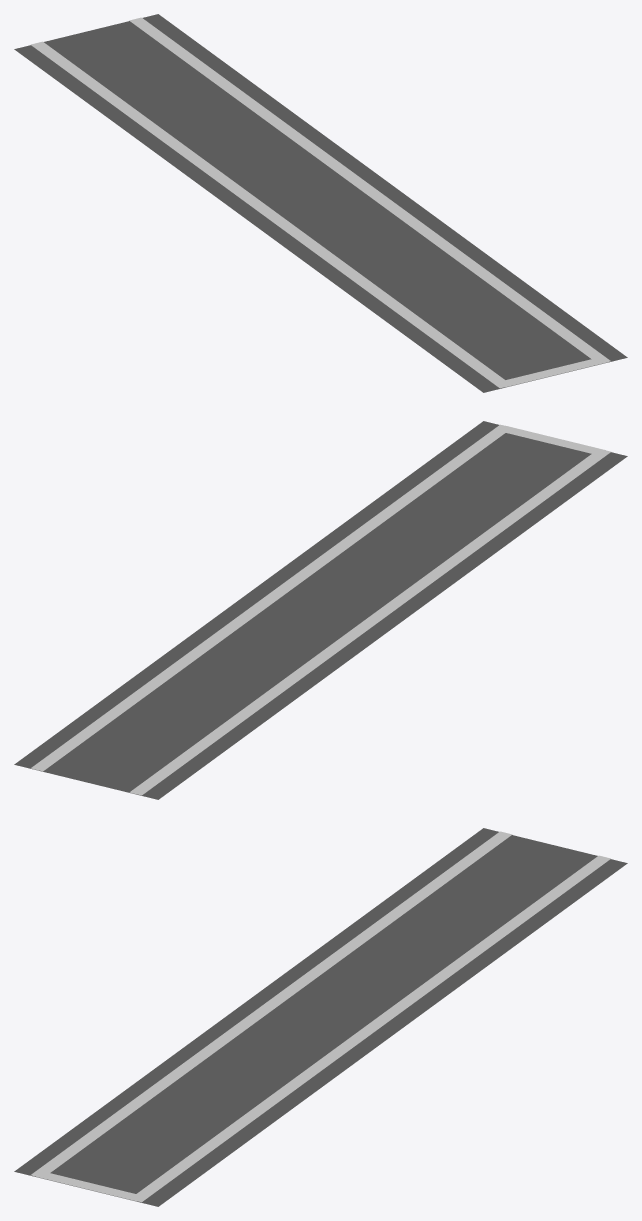
File: Road.FBX
The picture shows the model from 3 angles, top to bottom: view 1: azimuth 30°, elevation 25°; view 2: azimuth 150°, elevation 25°; view 3: azimuth 330°, elevation 25°; orthographic projection.
Visible parts, largest first — view 1: Road; view 2: Road; view 3: Road.
Part boxes in pixels (bbox=[...]): Road: bbox=[14, 14, 627, 392]; Road: bbox=[14, 421, 627, 799]; Road: bbox=[14, 828, 627, 1206].
Bounding box in the file's own units: 23.72 × 0.0807 × 134.
Materials: 1 (1 with a texture image).
